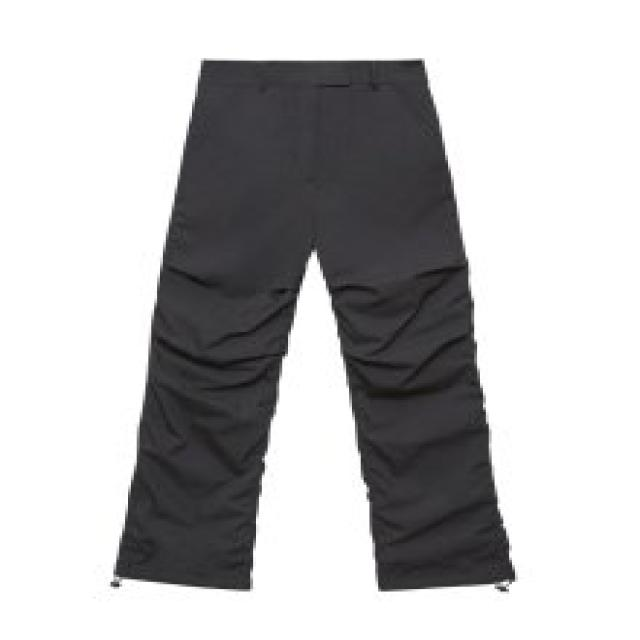long-pants: (117, 57, 516, 596)
